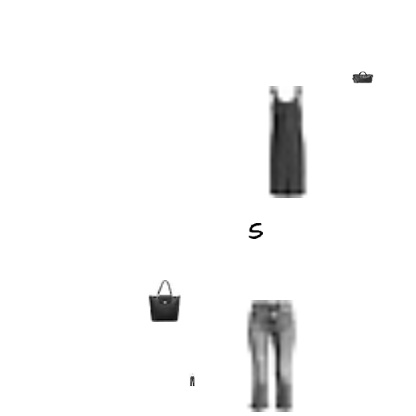1: (107, 342, 135, 370)
2: (82, 43, 194, 155)
4: (253, 238, 295, 280)
6: (208, 241, 250, 283)
Bag: (151, 235, 193, 277)
Dress: (198, 107, 282, 191)
Sandal: (26, 179, 82, 235)
Shirt: (251, 23, 335, 107)
